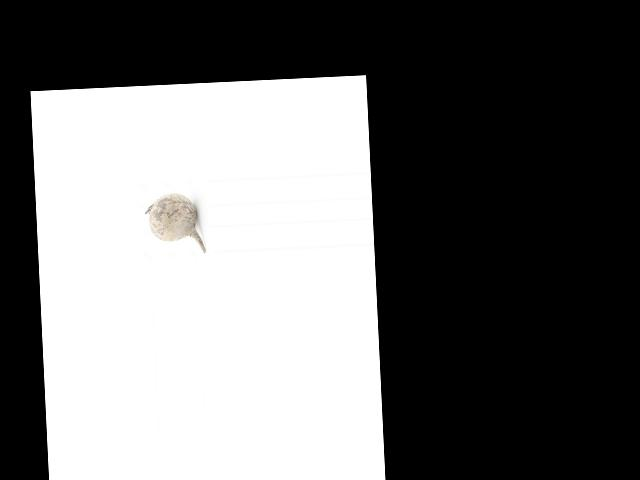beet: (144, 191, 205, 255)
